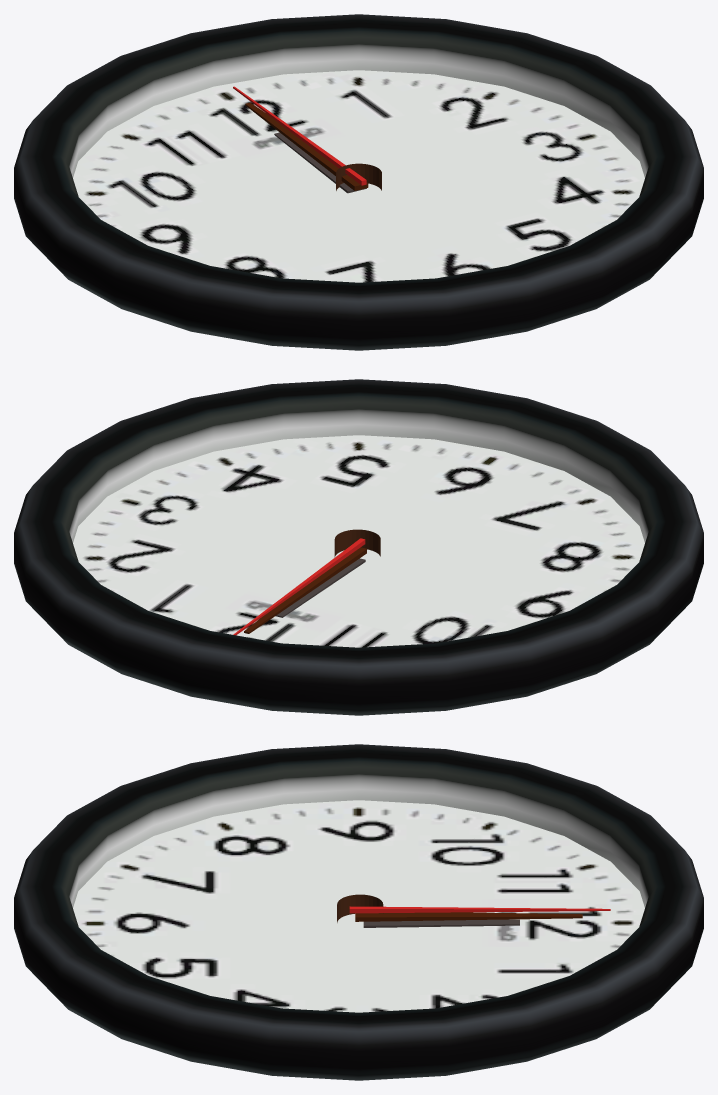
File: clock.fbx
3 renders of one model, top to bottom at view 1: azimuth 30°, elevation 25°; view 2: azimuth 150°, elevation 25°; view 3: azimuth 270°, elevation 25°, orthographic.
Visible parts, largest first — view 1: Object_3, minutehand, secondhand, 圆环.001, hourhand; view 2: Object_3, minutehand, secondhand, 圆环.001, hourhand; view 3: Object_3, minutehand, secondhand, hourhand, 圆环.001.
Boxes of the visible parts, x1,y1,x2,y2 form: Object_3: (14, 14, 703, 350); minutehand: (245, 102, 368, 190); secondhand: (233, 86, 366, 185); 圆环.001: (336, 163, 381, 190); hourhand: (274, 132, 366, 193); Object_3: (14, 379, 703, 715); minutehand: (244, 547, 366, 633); secondhand: (233, 538, 365, 635); 圆环.001: (334, 529, 380, 557); hourhand: (275, 558, 365, 617); Object_3: (14, 744, 703, 1080); minutehand: (355, 912, 582, 921); secondhand: (349, 906, 610, 913); hourhand: (363, 919, 519, 927); 圆环.001: (337, 894, 383, 922).
Size of the model in its own units: 692 by 57.67 by 692.
5 materials, 1 textured.
